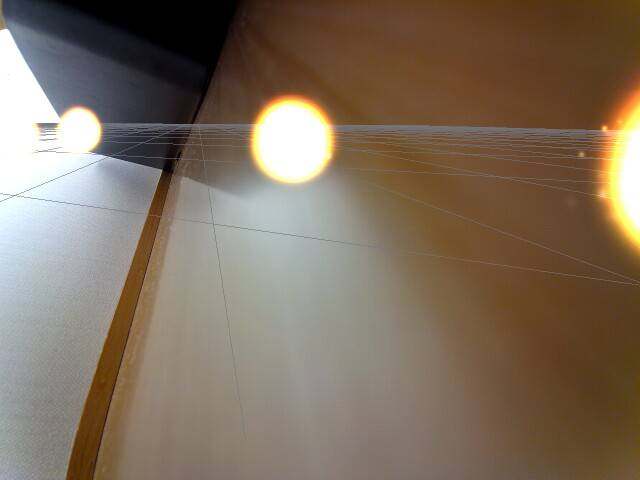firebig: (247, 97, 334, 210)
